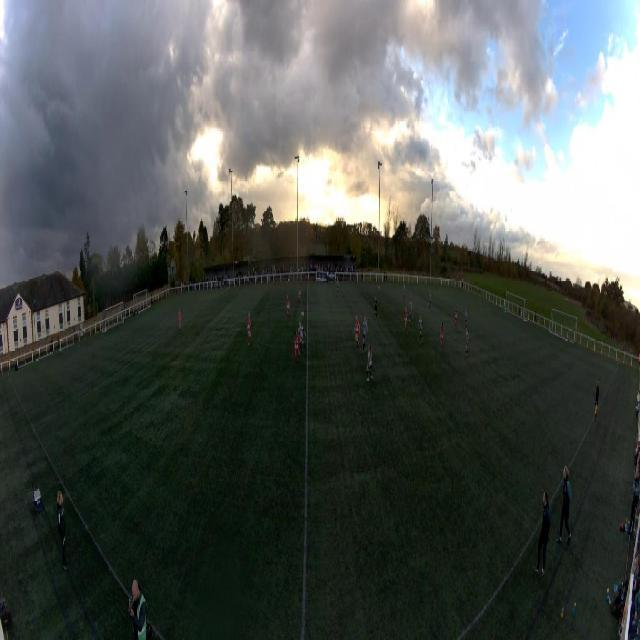ball: (301, 311, 304, 317)
player: (292, 330, 301, 368), (366, 345, 374, 382), (297, 322, 306, 348), (354, 315, 360, 349), (362, 318, 368, 352), (247, 312, 252, 347), (418, 315, 423, 344), (403, 306, 407, 336), (286, 295, 291, 319), (440, 322, 444, 350), (465, 329, 469, 357), (374, 295, 378, 320), (408, 299, 412, 321), (335, 276, 339, 295), (298, 285, 302, 303), (455, 306, 458, 328), (464, 309, 467, 331), (429, 291, 432, 312), (178, 310, 181, 331), (378, 279, 381, 295), (403, 283, 405, 300), (503, 303, 505, 319), (409, 294, 412, 303)
